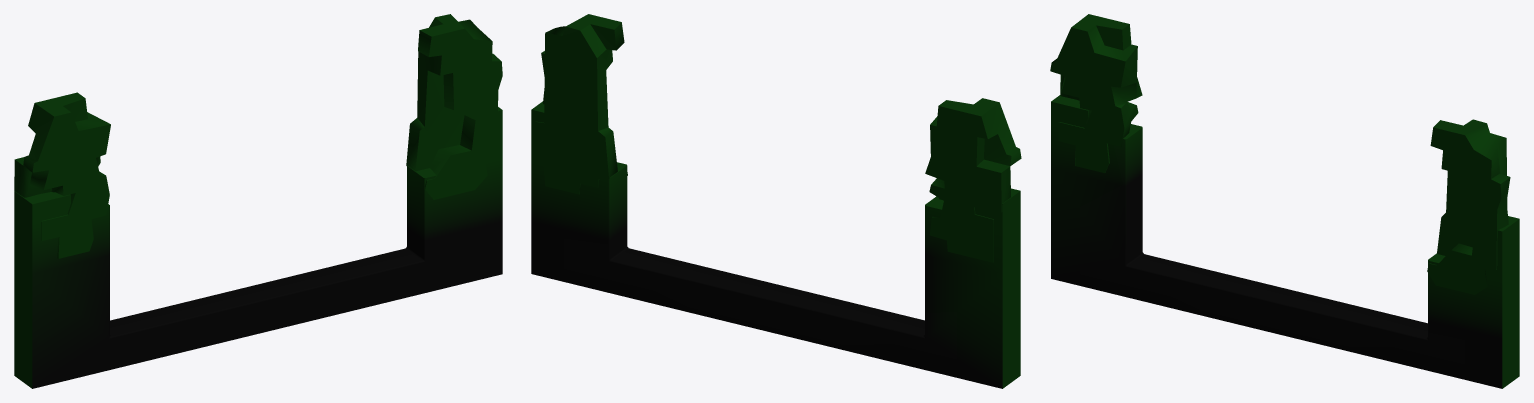
Rendered from DBK_Brick_WinBig_Tile.fbx.
3 renders of one model, left to right at view 1: azimuth 30°, elevation 25°; view 2: azimuth 150°, elevation 25°; view 3: azimuth 330°, elevation 25°, orthographic. The views are drawn at different scales.
Parts seen in each view (by area): view 1: DBK_Brick_WinBig_Tile; view 2: DBK_Brick_WinBig_Tile; view 3: DBK_Brick_WinBig_Tile.
Part boxes in pixels (x1,y1,x2,y2): DBK_Brick_WinBig_Tile: (14,14,502,388); DBK_Brick_WinBig_Tile: (531,14,1021,388); DBK_Brick_WinBig_Tile: (1050,14,1519,388).
Bounding box in the file's own units: 300 × 163 × 21.03.
